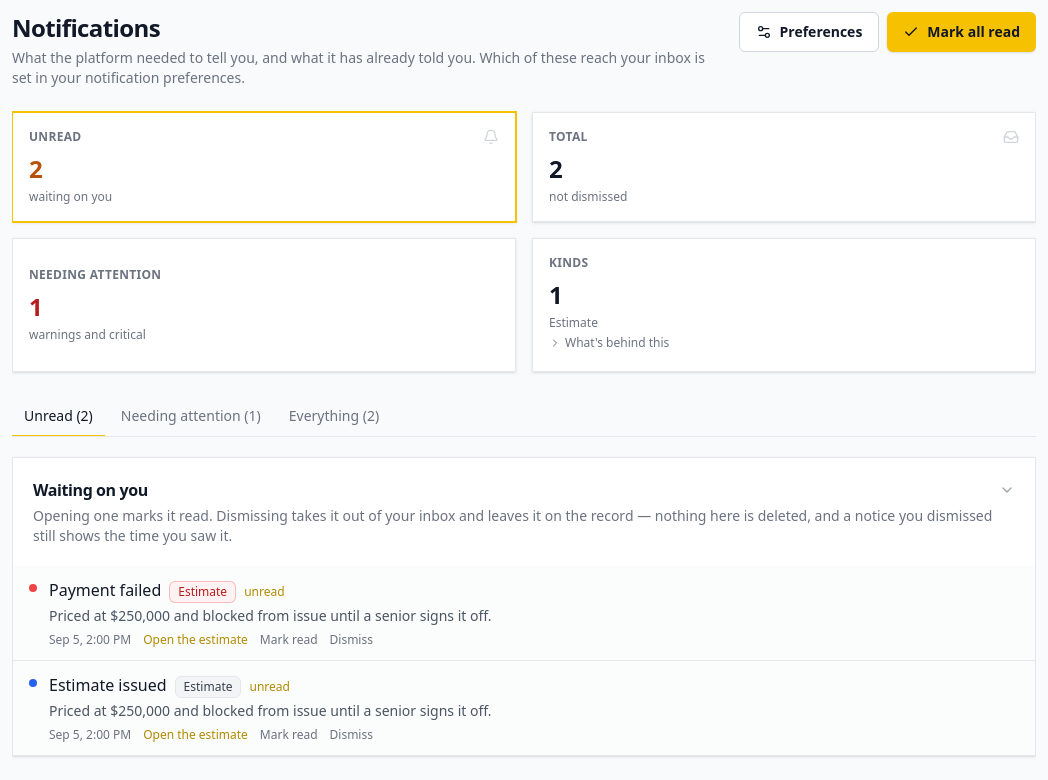
Test case: the notifications screen › narrows the list to warnings and critical notices from the tile
Expected: the text "Estimate issued" is shown, [49,673,167,697]
Click the button with aria-label "Show only warnings and critical notices": (95, 274) [12,238,516,372]
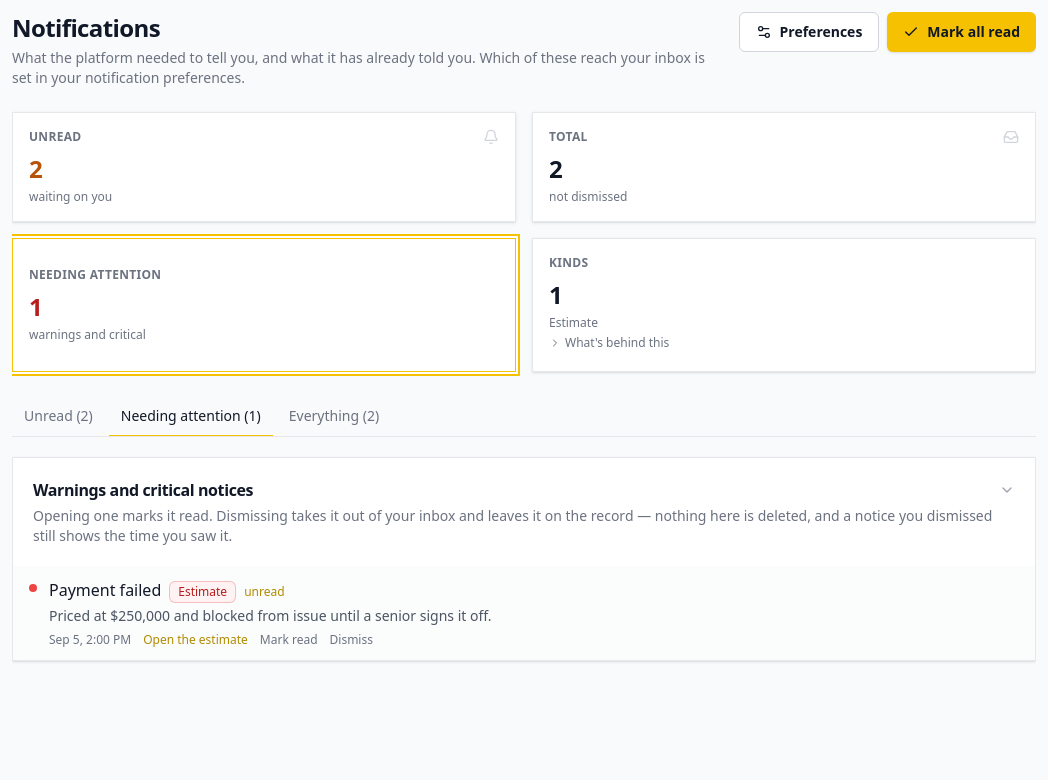
Expected: the text "Payment failed" is shown, [49,578,161,602]
Result: the text "Warnings and critical notices" is shown at [33,479,253,501]
Result: the text "Estimate issued" is gone
